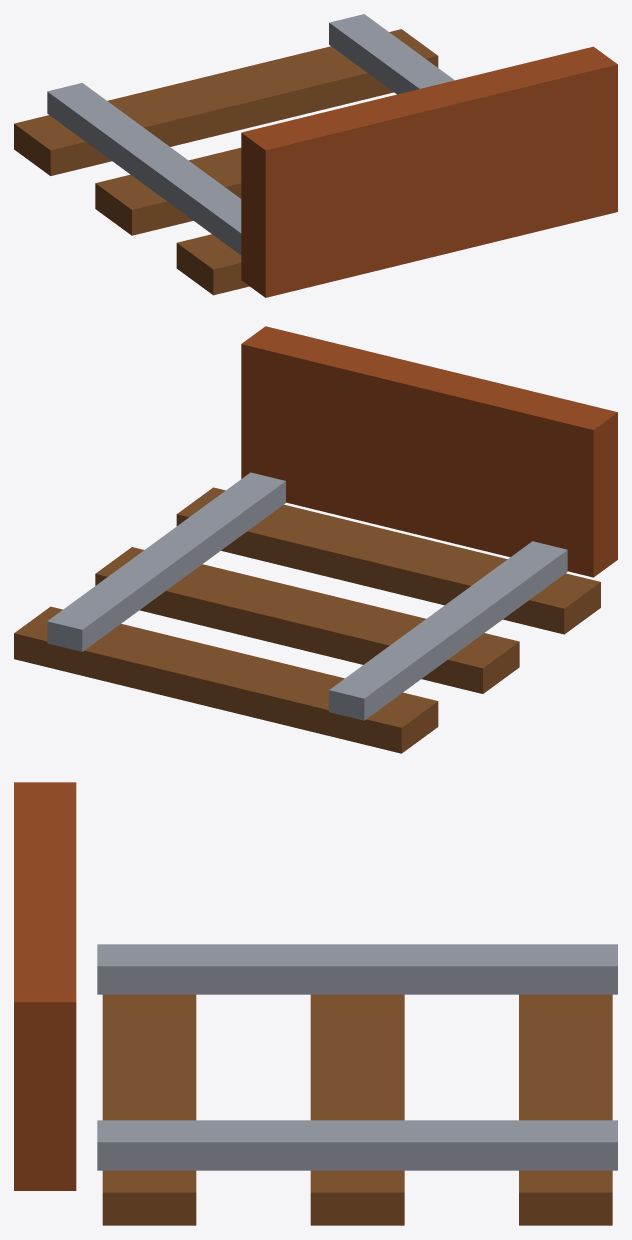
File: rail_buffer.glb
3 views of the same model, one above another, from view 1: azimuth 30°, elevation 25°; view 2: azimuth 150°, elevation 25°; view 3: azimuth 270°, elevation 25° (orthographic). The views are drawn at different scales.
Parts seen in each view (by area): view 1: rail_buffer; view 2: rail_buffer; view 3: rail_buffer.
Part boxes in pixels (bbox=[...]): rail_buffer: bbox=[14, 14, 617, 297]; rail_buffer: bbox=[14, 326, 617, 753]; rail_buffer: bbox=[14, 782, 617, 1225].
Bounding box in the file's own units: 1.1 × 0.45 × 1.16.
